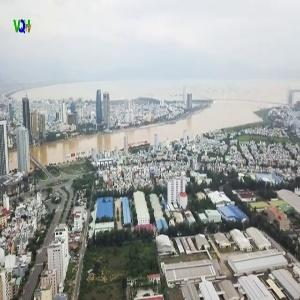drone: (71, 241, 124, 294)
